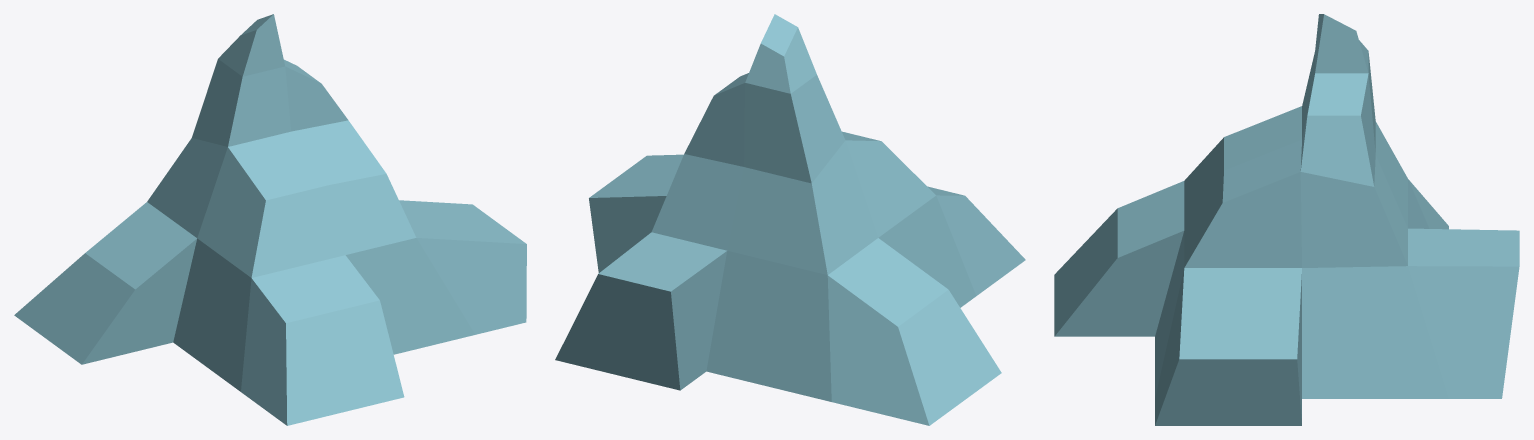
File: biome-ice.fbx
3 views of the same model, side by side, from view 1: azimuth 30°, elevation 25°; view 2: azimuth 150°, elevation 25°; view 3: azimuth 270°, elevation 25° (orthographic). The views are drawn at different scales.
Parts seen in each view (by area): view 1: Cube; view 2: Cube; view 3: Cube.
Boxes of the visible parts, bbox=[...] form: Cube: bbox=[14, 14, 526, 425]; Cube: bbox=[555, 14, 1025, 425]; Cube: bbox=[1054, 14, 1519, 425].
Bounding box in the file's own units: 331 × 240 × 316.
